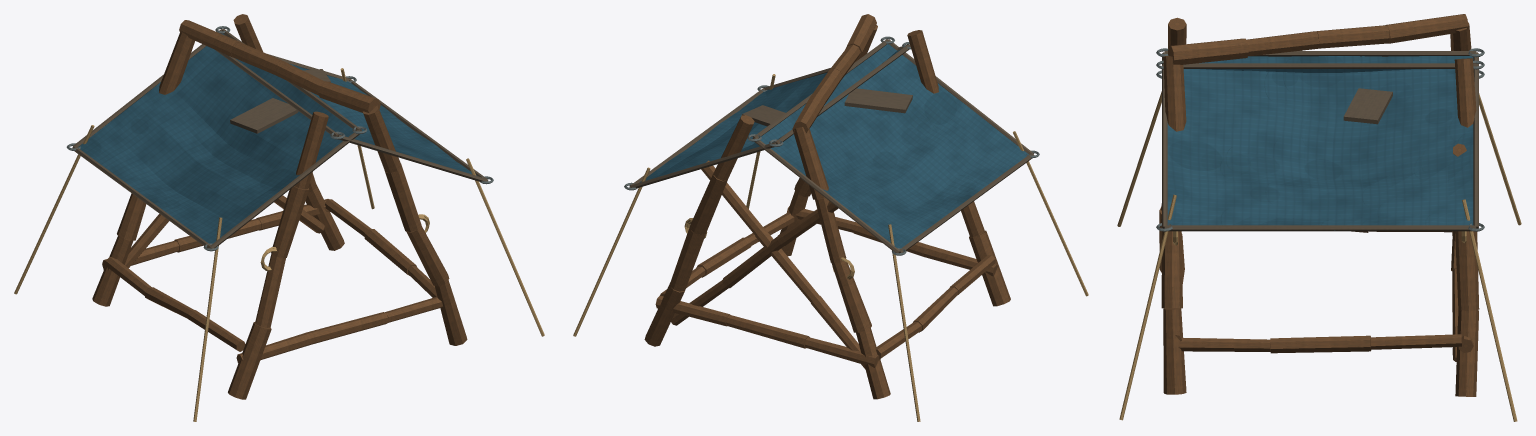
The model's file is cs-005_shelter_repaired_reinforced.obj.
3 renders of one model, left to right at view 1: azimuth 30°, elevation 25°; view 2: azimuth 150°, elevation 25°; view 3: azimuth 270°, elevation 25°, orthographic. The views are drawn at different scales.
Visible parts, largest first — view 1: cs-005_shelter_repaired_reinforced; view 2: cs-005_shelter_repaired_reinforced; view 3: cs-005_shelter_repaired_reinforced.
Boxes of the visible parts, x1,y1,x2,y2 form: cs-005_shelter_repaired_reinforced: (14,14,544,421); cs-005_shelter_repaired_reinforced: (573,14,1088,421); cs-005_shelter_repaired_reinforced: (1117,14,1521,421).
Bounding box in the file's own units: 2.26 × 1.61 × 1.95.
5 materials, 5 textured.
